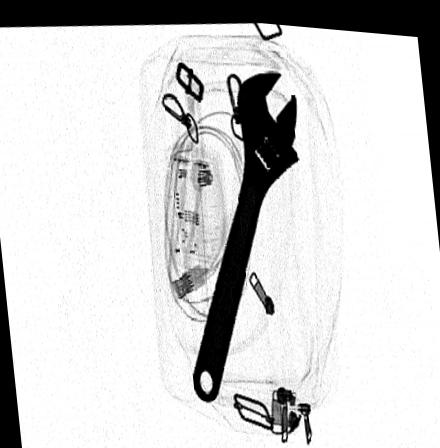Wrench: (193, 66, 299, 397)
